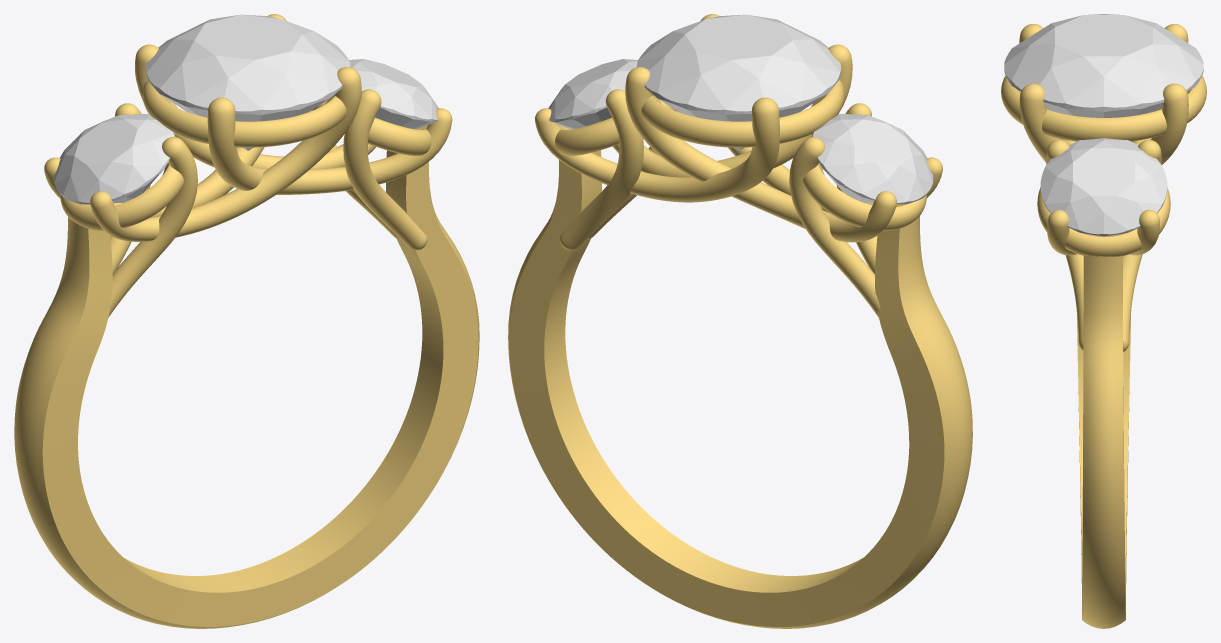
File: Sam3stoneYG_blender.glb
The picture shows the model from 3 angles, left to right: view 1: azimuth 30°, elevation 25°; view 2: azimuth 150°, elevation 25°; view 3: azimuth 270°, elevation 25°; orthographic projection. The views are drawn at different scales.
Parts seen in each view (by area): view 1: Sam YG for 3d model, Sam dia for 3d model.001, Sam dia for 3d model, Sam dia for 3d model.002; view 2: Sam YG for 3d model, Sam dia for 3d model.001, Sam dia for 3d model, Sam dia for 3d model.002; view 3: Sam YG for 3d model, Sam dia for 3d model.001, Sam dia for 3d model.002.
Part boxes in pixels (box(x1,y1,x2,y2)): Sam YG for 3d model: box(14, 14, 479, 628); Sam dia for 3d model.001: box(146, 14, 350, 150); Sam dia for 3d model: box(53, 114, 174, 204); Sam dia for 3d model.002: box(349, 59, 438, 129); Sam YG for 3d model: box(508, 14, 972, 628); Sam dia for 3d model.001: box(636, 14, 841, 150); Sam dia for 3d model: box(812, 114, 933, 204); Sam dia for 3d model.002: box(548, 59, 637, 129); Sam YG for 3d model: box(1001, 24, 1206, 628); Sam dia for 3d model.001: box(1004, 14, 1203, 117); Sam dia for 3d model.002: box(1040, 138, 1167, 236).
Size of the model in its own units: 20.92 by 25.56 by 8.39.
